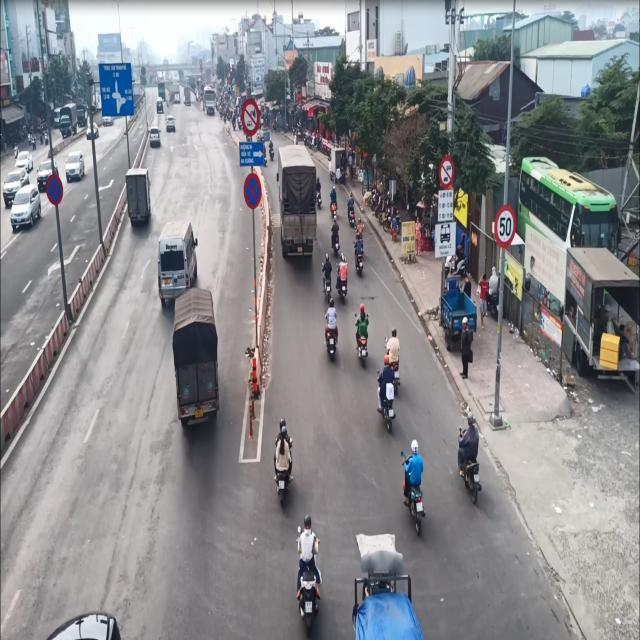bus: (516, 147, 616, 275)
car: (158, 214, 198, 308)
motor: (292, 507, 324, 627), (453, 394, 485, 506), (398, 439, 430, 538), (273, 410, 296, 510), (353, 291, 369, 366), (322, 299, 338, 371)
truck: (171, 289, 223, 453), (274, 144, 320, 274), (126, 160, 156, 233)
